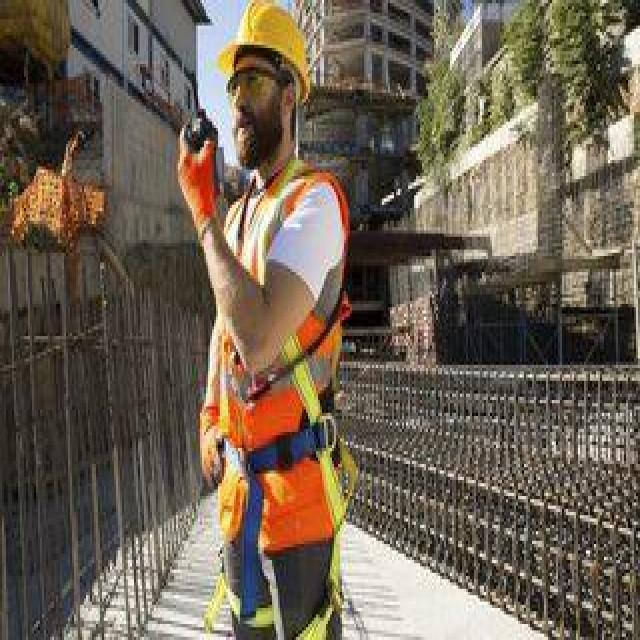Reflective-Jacket: (204, 157, 356, 566)
Safety-Helmet: (210, 3, 318, 106)
